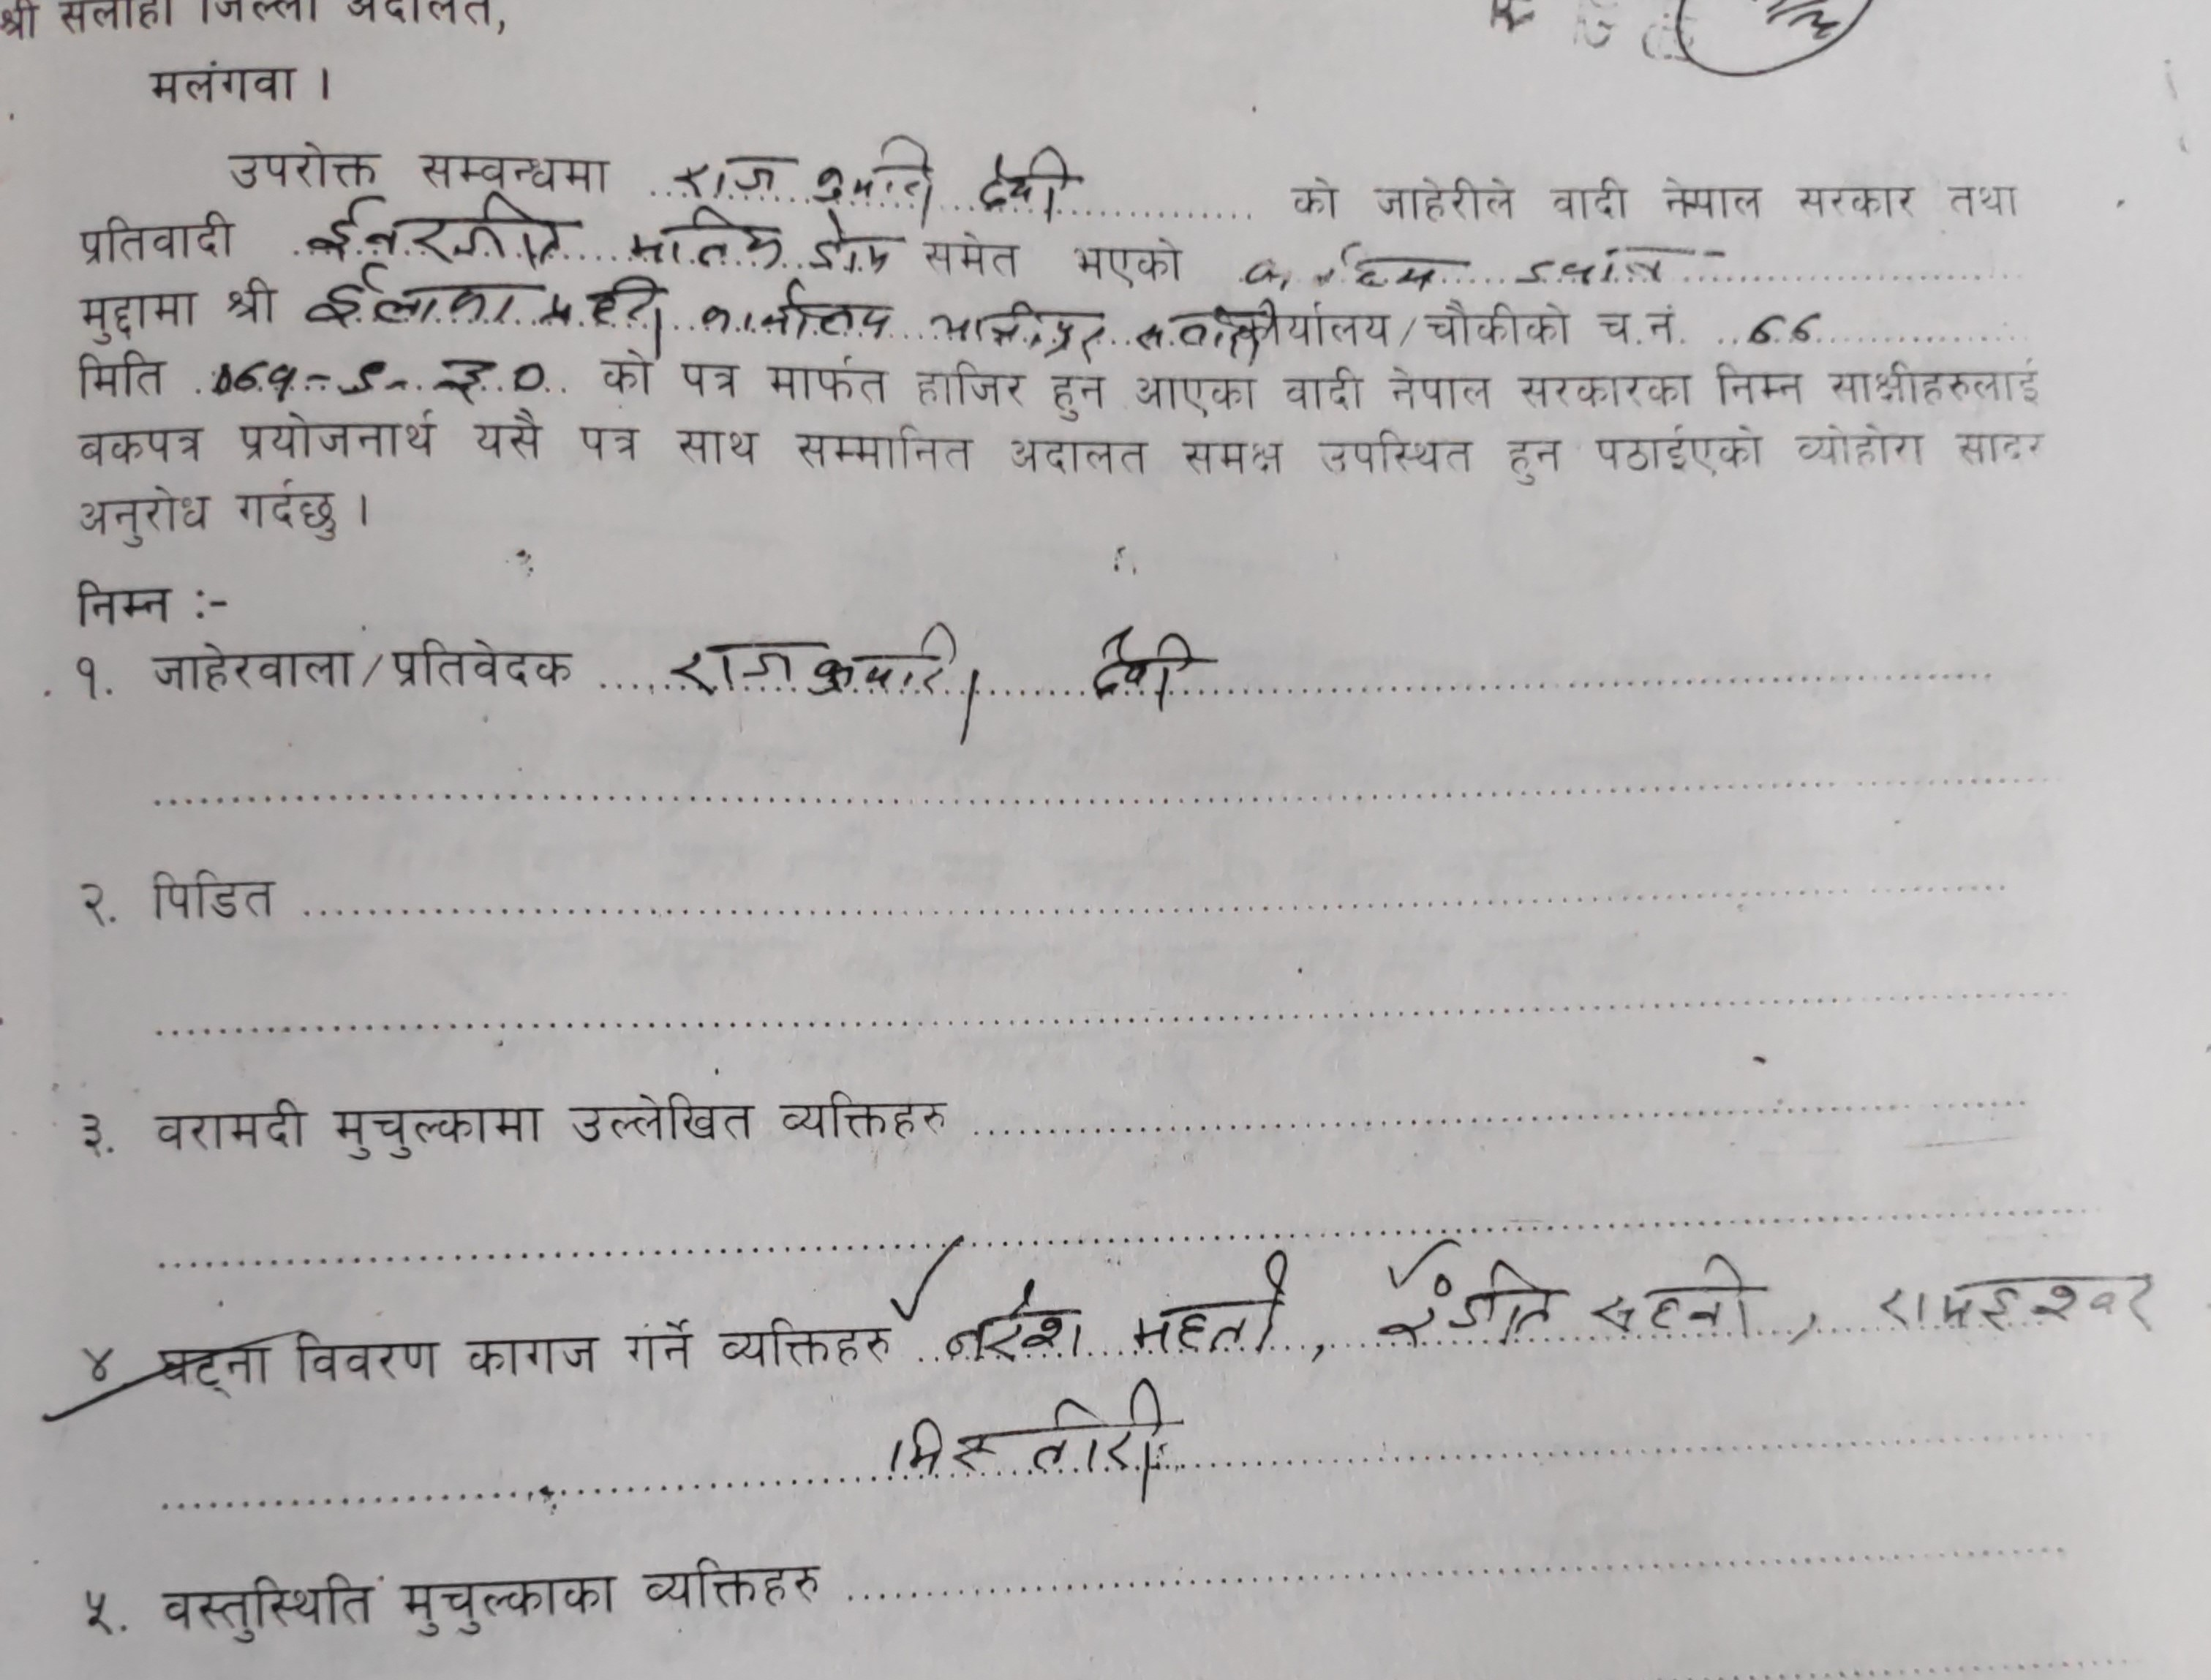text: (881, 1373, 1172, 1505), (667, 619, 963, 702), (304, 191, 573, 270), (210, 348, 556, 406), (1133, 1246, 1290, 1362), (1373, 1258, 1556, 1354), (1874, 1271, 2160, 1331), (1588, 1248, 1761, 1346), (302, 268, 526, 332), (699, 277, 898, 344), (939, 1276, 1087, 1366), (626, 198, 787, 275), (1509, 240, 1729, 296), (923, 296, 1108, 364), (1244, 235, 1440, 296), (1085, 623, 1198, 715), (808, 132, 941, 210), (538, 272, 669, 344), (1133, 298, 1278, 360), (976, 143, 1073, 219), (805, 208, 903, 275), (669, 150, 789, 205), (1747, 305, 1830, 349)
